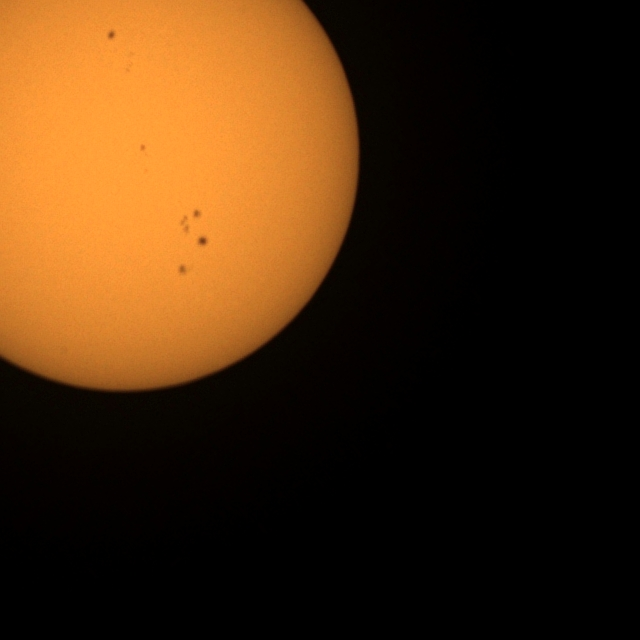sunspot: (181, 208, 203, 231), (196, 235, 209, 248), (124, 60, 133, 75), (178, 264, 188, 276), (107, 29, 116, 41), (139, 144, 148, 155)
